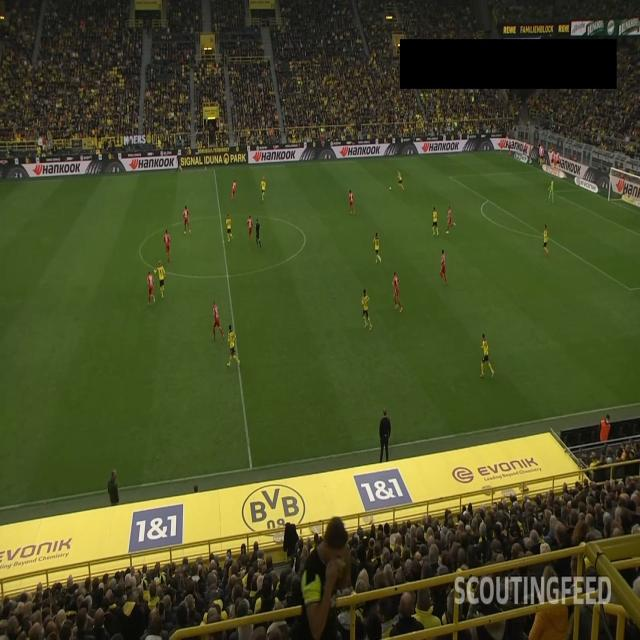ball: (389, 185, 392, 191)
